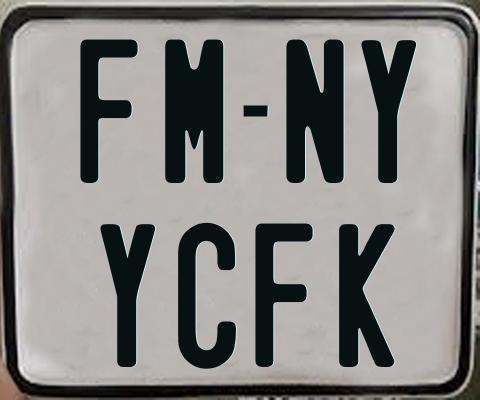C: (175, 220, 234, 370)
F: (78, 37, 139, 184), (255, 222, 314, 370)
K: (336, 221, 392, 368)
M: (163, 38, 224, 182)
N: (285, 36, 343, 182)
Y: (360, 39, 419, 188), (100, 222, 156, 370)
